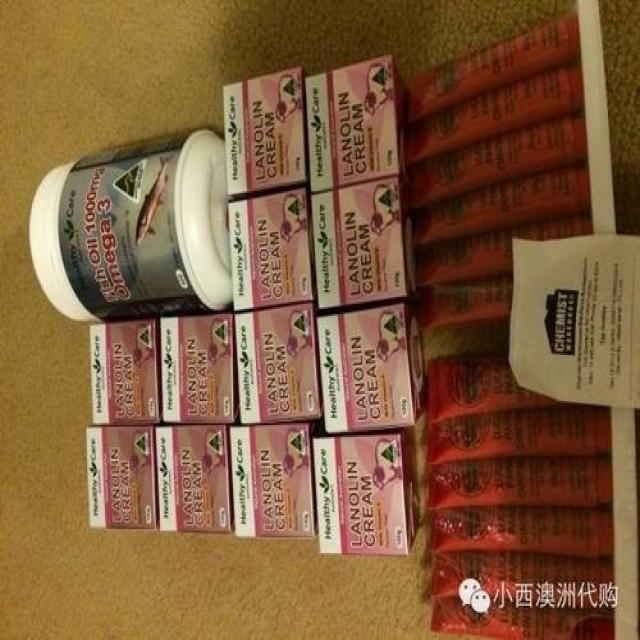box: (316, 302, 427, 435), (311, 176, 417, 314), (304, 56, 411, 191), (313, 427, 421, 556), (226, 186, 317, 315), (223, 69, 309, 198), (235, 304, 323, 426), (229, 427, 316, 538), (159, 315, 238, 424), (156, 425, 233, 533), (86, 425, 157, 530), (92, 320, 160, 426)
